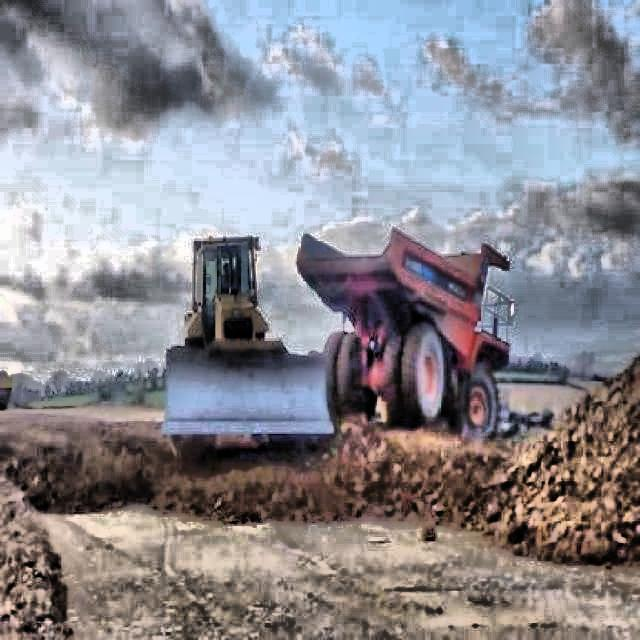dump_truck: (296, 228, 516, 443)
